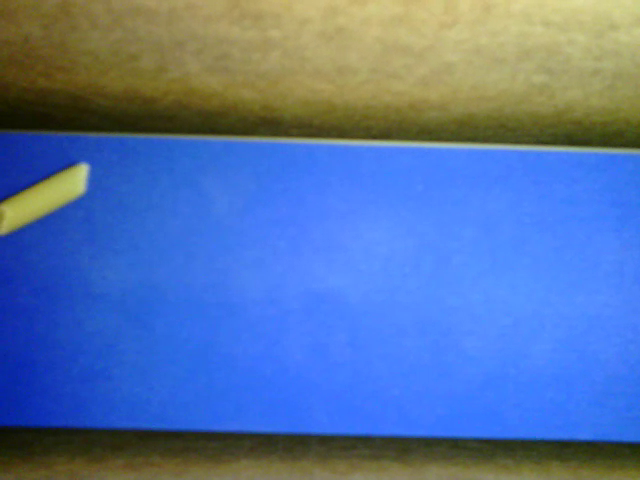penne: (1, 161, 92, 235)
